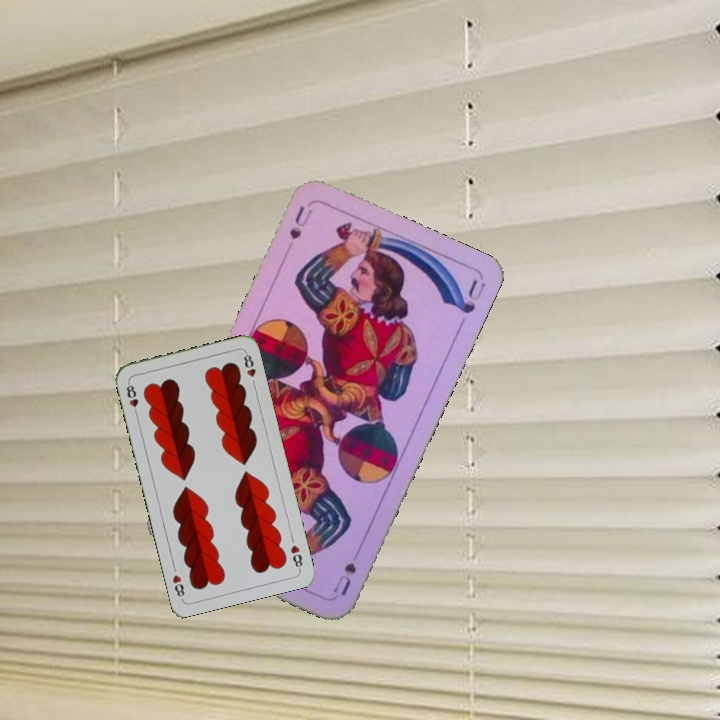H8: (122, 378, 141, 418), (286, 541, 305, 572)
SU: (329, 558, 359, 599), (285, 202, 315, 242)
